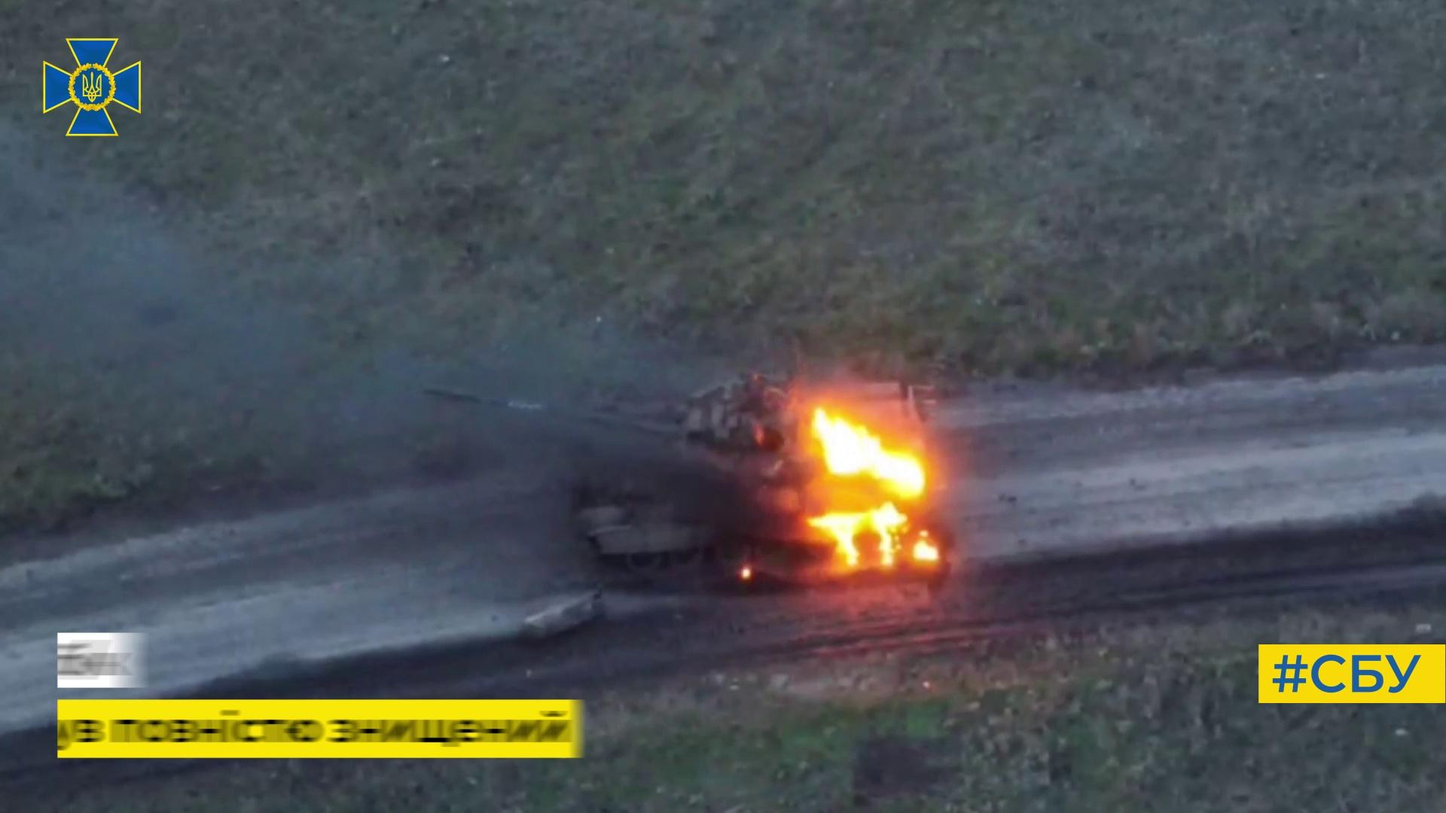vehicle: (424, 375, 950, 592)
